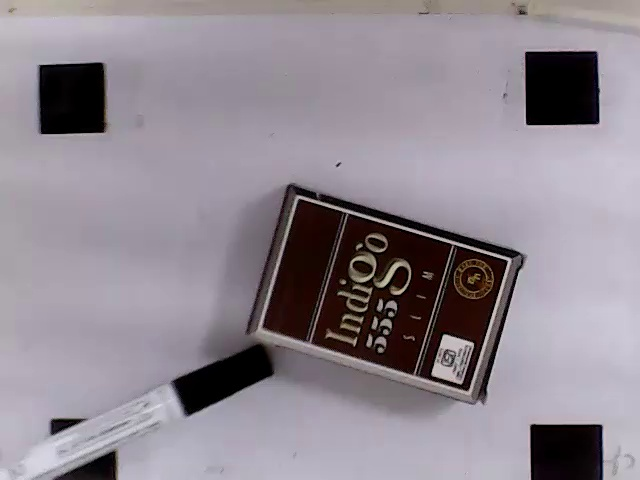BEX: (261, 196, 509, 393)
